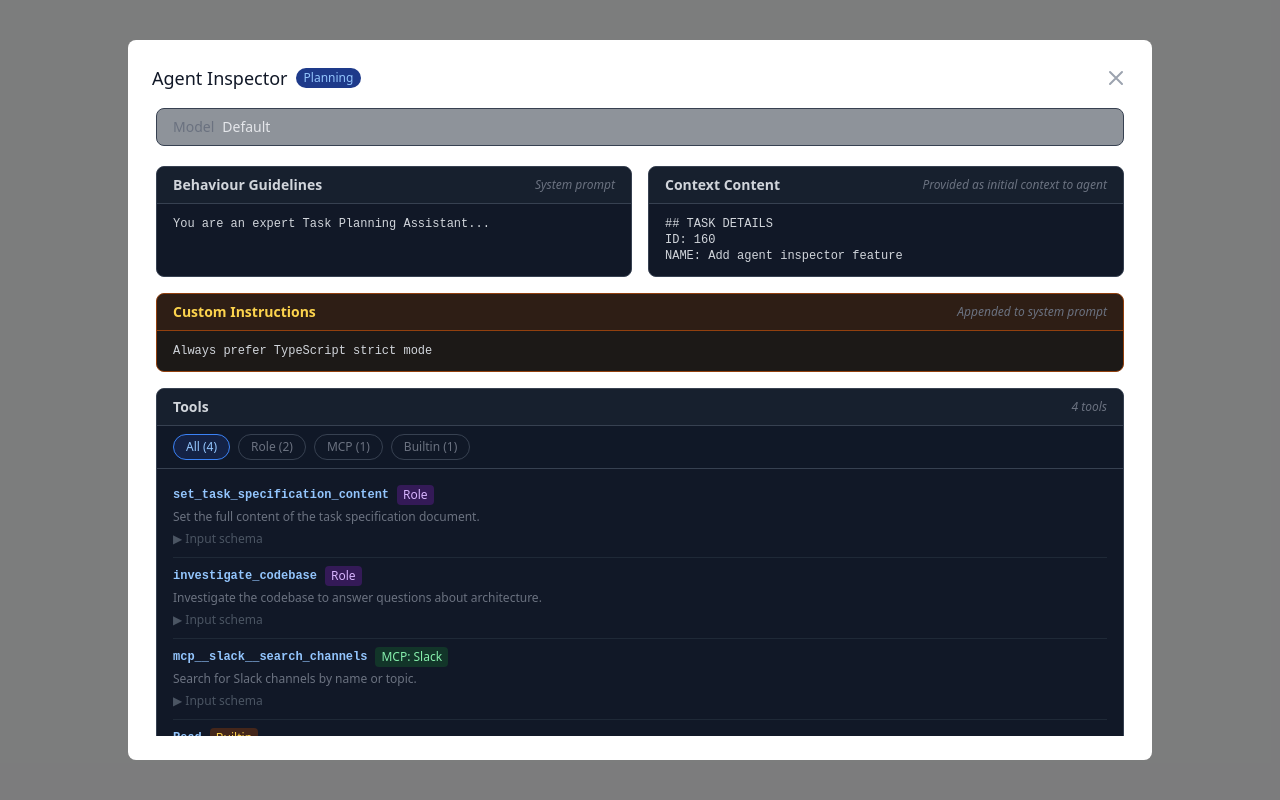
Test: AgentInspectorModal › schema toggle expands and collapses
Expected: the text "\"properties\"" is not shown
Expand the first schema toggle
Step 1. Click the button "▶ Input schema" below "set_task_specification_content" → (218, 539), box [173,531,263,547]
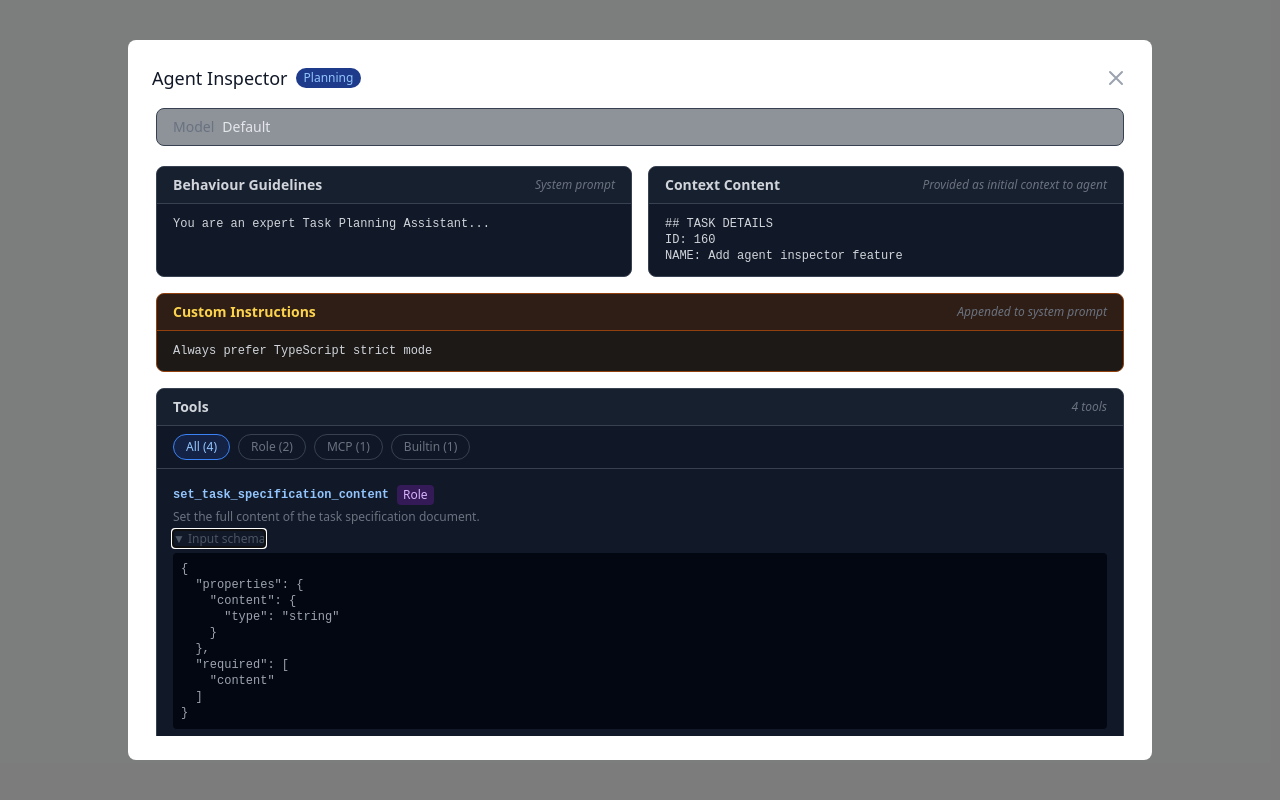
Result: the text "\"properties\"" is shown at [181,562,339,720]
Collapse it again
Step 2. Click the button "▼ Input schema" → (219, 539), box [173,531,265,547]
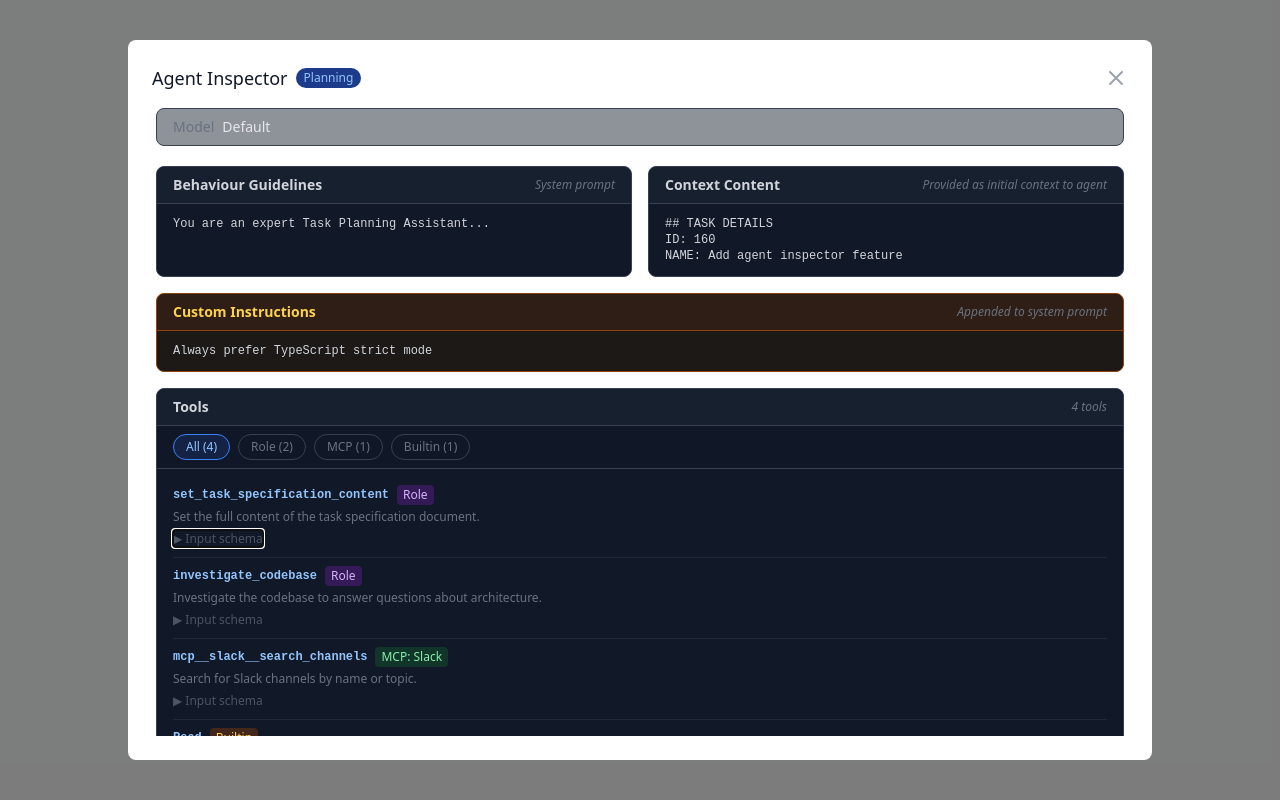
Result: the text "\"properties\"" is gone
